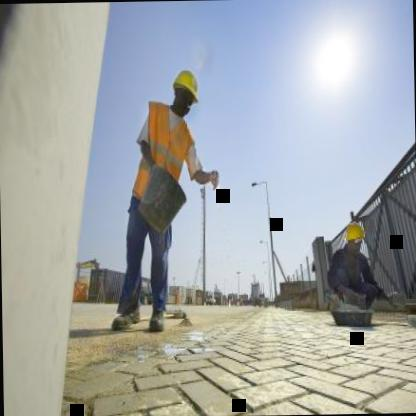helmet: (168, 64, 202, 120), (343, 218, 365, 261)
